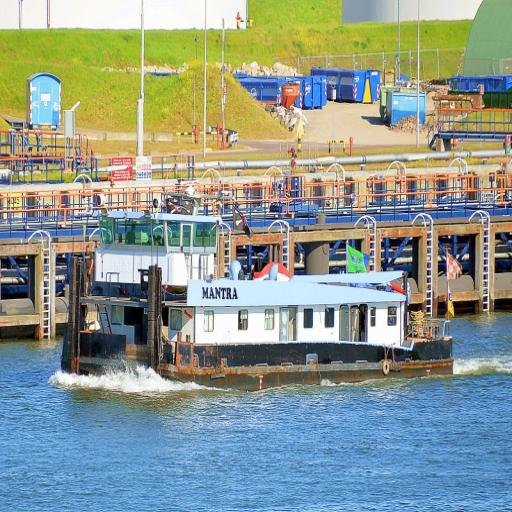tugboat: (61, 184, 458, 394)
